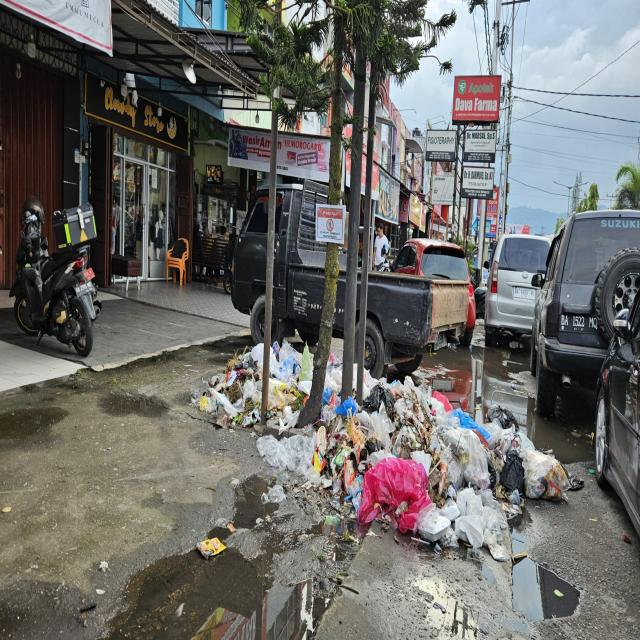trash: (209, 345, 564, 605)
